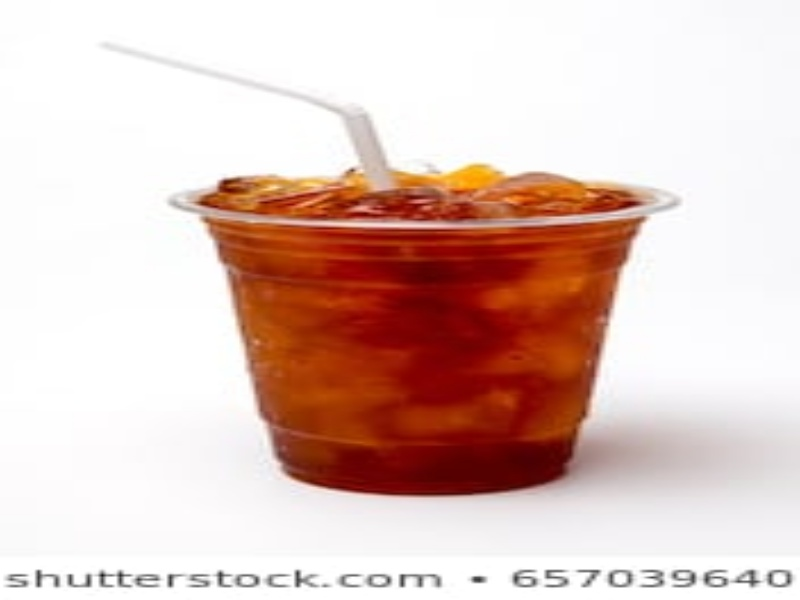plastic-cup: (169, 163, 682, 495)
straw: (98, 37, 402, 186)
